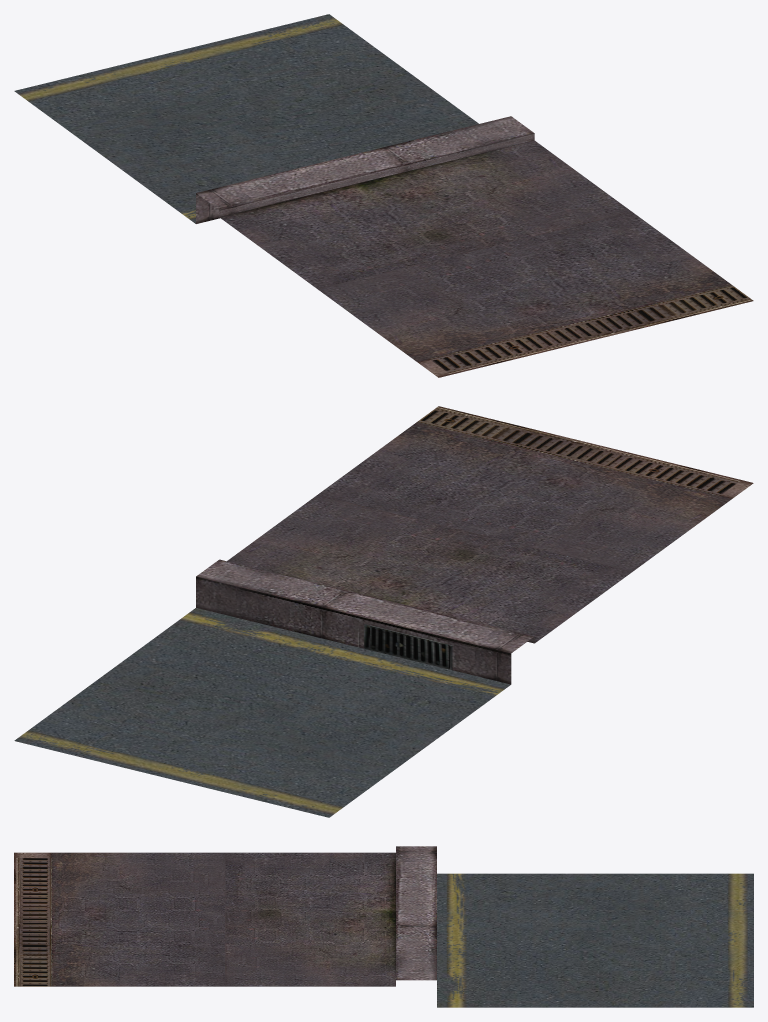
The model's file is Road1_Part_02.fbx.
The picture shows the model from 3 angles, top to bottom: view 1: azimuth 30°, elevation 25°; view 2: azimuth 150°, elevation 25°; view 3: azimuth 270°, elevation 25°; orthographic projection. The views are drawn at different scales.
Visible parts, largest first — view 1: Road_Part_02; view 2: Road_Part_02; view 3: Road_Part_02.
Boxes of the visible parts, x1,y1,x2,y2 form: Road_Part_02: [14, 14, 753, 377]; Road_Part_02: [14, 406, 753, 817]; Road_Part_02: [14, 846, 753, 1007].
Bounding box in the file's own units: 200 × 18.88 × 467.
